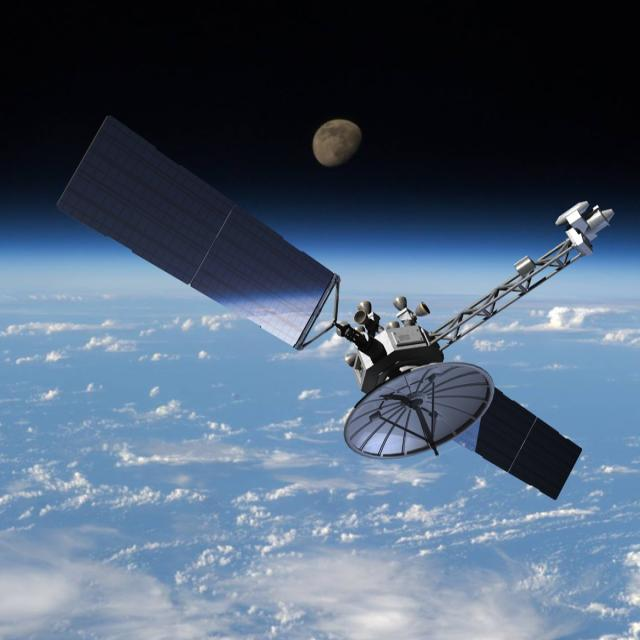satellite: (53, 109, 620, 524)
